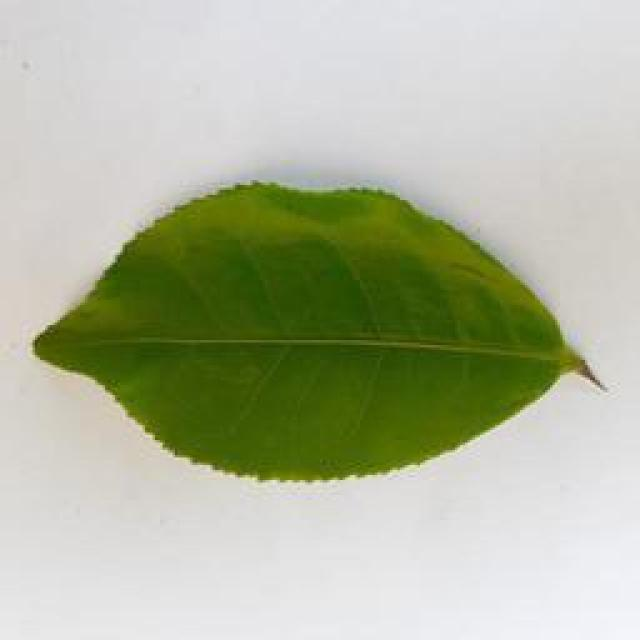Healthy: (29, 171, 619, 487)
